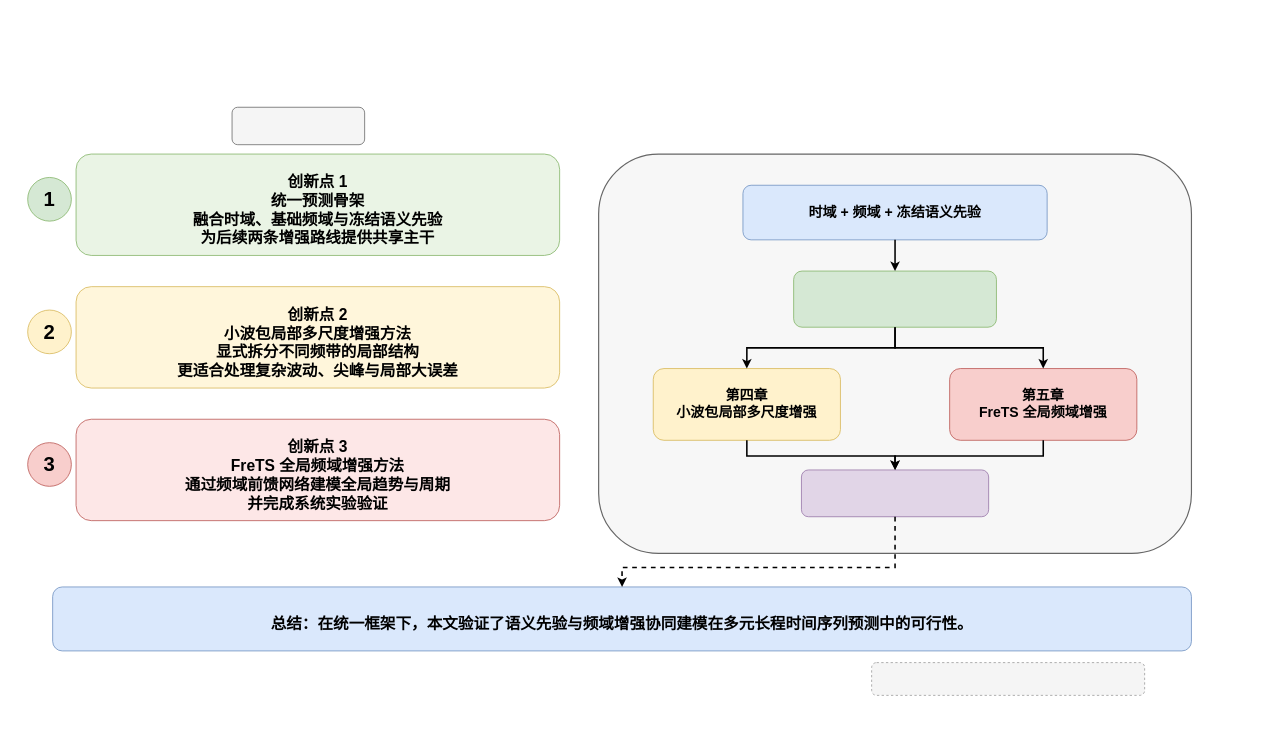
The diagram is 1275 pixels wide and 729 high, and some of its shapes have lost their labels. The shapes that lost their labels are listed below. From the top down, each one's centre as x and y in pixels, then its label:
At (x=298, y=125): "三个创新点".
At (x=894, y=298): "统一预测骨架".
At (x=895, y=493): "系统实验验证".
At (x=1008, y=678): "后续仍有真实部署效率与跨场景泛化空间".
